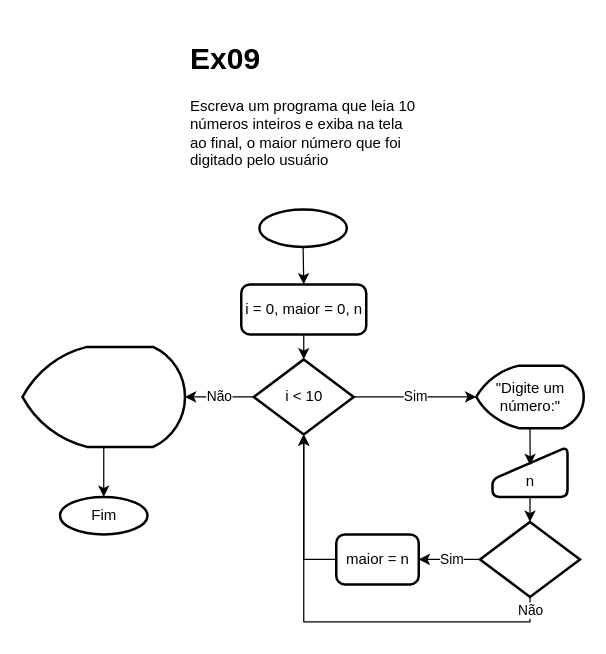
Image size: 606x654. Some labels were removed from this diagram. Here are the shapes that lost their labels. From the top down, the centre of each, then its label:
point (303, 228): Início
point (103, 396): "O maior número digitado é %d", maior
point (529, 559): maior < n
